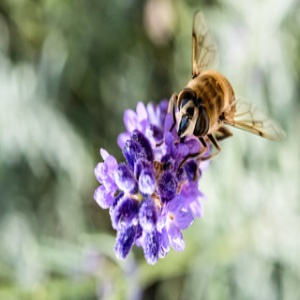bee: (171, 11, 289, 179)
